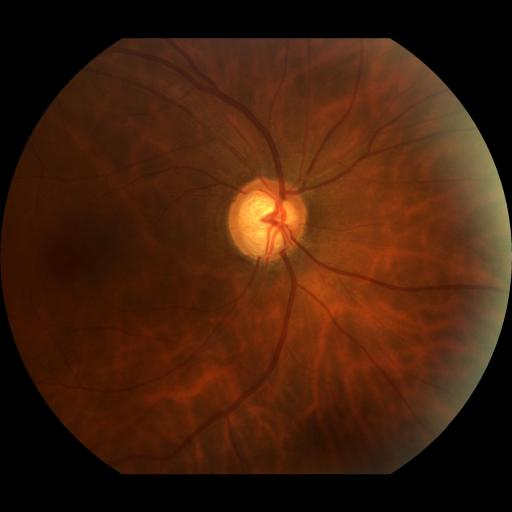Optic Cup: (239, 191, 296, 254)
Optic Disc: (228, 176, 307, 264)
